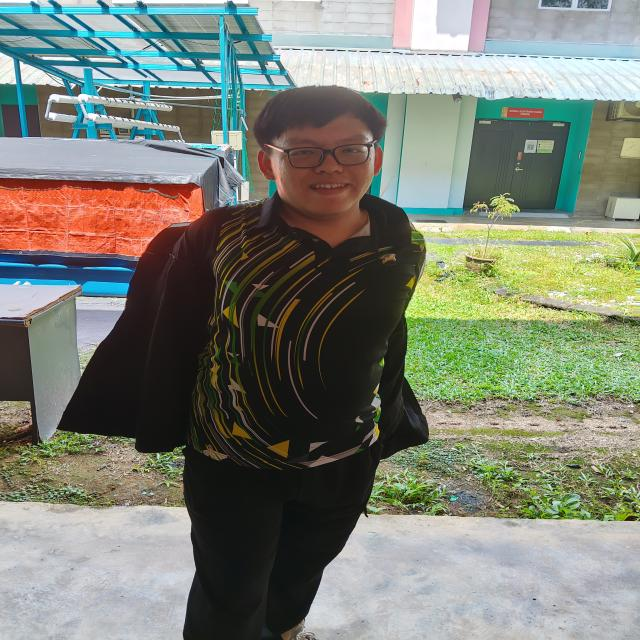person_without_labcoat: (61, 87, 428, 640)
